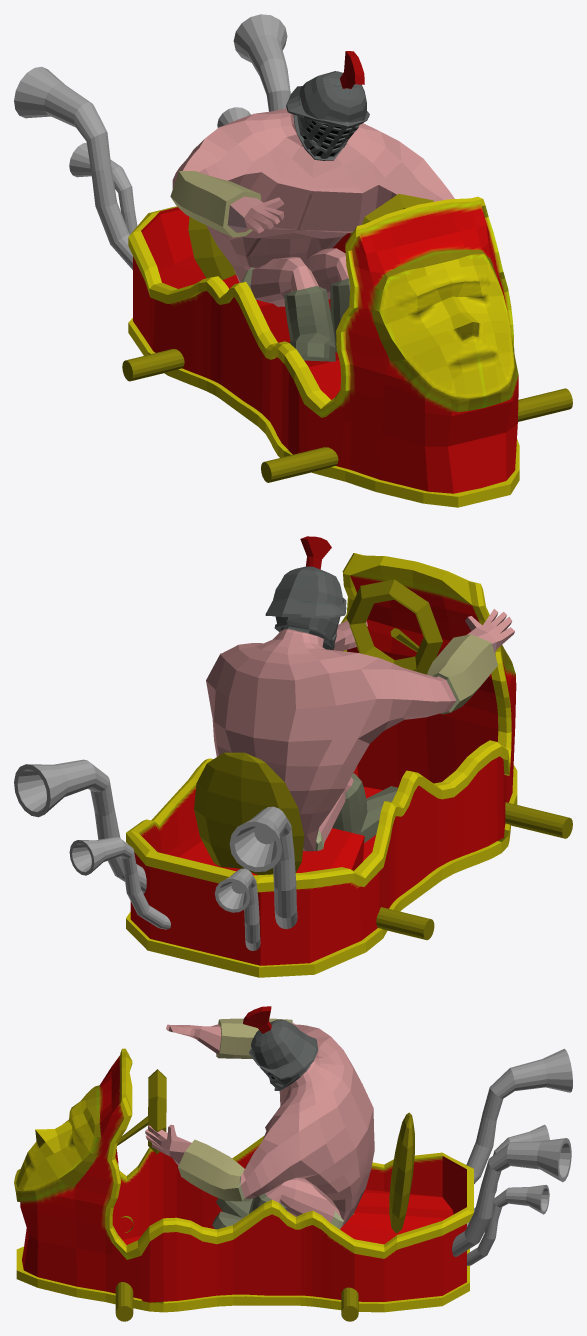
File: gladiVacile_000580.obj
3 views of the same model, one above another, from view 1: azimuth 30°, elevation 25°; view 2: azimuth 150°, elevation 25°; view 3: azimuth 270°, elevation 25° (orthographic). The views are drawn at different scales.
Parts seen in each view (by area): view 1: GladiChasis_GladiChasisH, Gadiador_Gladiador_H.001, GladiTubos_GladiTubosH, GladiVolante_GladiVolanteH; view 2: GladiChasis_GladiChasisH, Gadiador_Gladiador_H.001, GladiTubos_GladiTubosH, GladiVolante_GladiVolanteH; view 3: GladiChasis_GladiChasisH, Gadiador_Gladiador_H.001, GladiTubos_GladiTubosH, GladiVolante_GladiVolanteH.
Part boxes in pixels (<box>): GladiChasis_GladiChasisH: <box>128,196,519,507</box>; Gadiador_Gladiador_H.001: <box>170,51,454,361</box>; GladiTubos_GladiTubosH: <box>14,14,290,269</box>; GladiVolante_GladiVolanteH: <box>122,194,572,482</box>; GladiChasis_GladiChasisH: <box>126,553,517,977</box>; Gadiador_Gladiador_H.001: <box>206,536,514,851</box>; GladiTubos_GladiTubosH: <box>14,759,297,950</box>; GladiVolante_GladiVolanteH: <box>194,579,572,940</box>; GladiChasis_GladiChasisH: <box>14,1048,473,1312</box>; Gadiador_Gladiador_H.001: <box>145,1006,374,1229</box>; GladiTubos_GladiTubosH: <box>452,1048,572,1265</box>; GladiVolante_GladiVolanteH: <box>115,1069,414,1321</box>.
Bounding box in the file's own units: 5.46 × 5.74 × 10.78.
